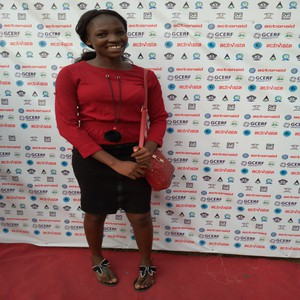Fulokoja_female_student: (58, 9, 154, 270)
